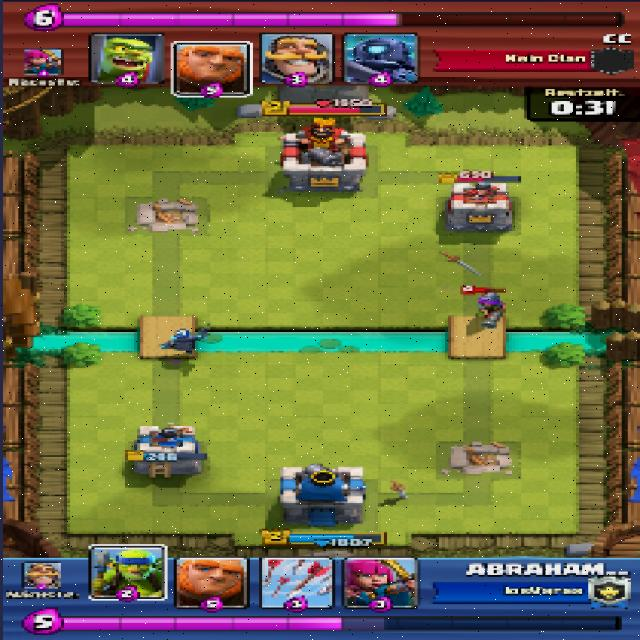Enemy-Musketeer: (470, 292, 512, 328)
Player-MiniPEKKA: (156, 327, 210, 356)
